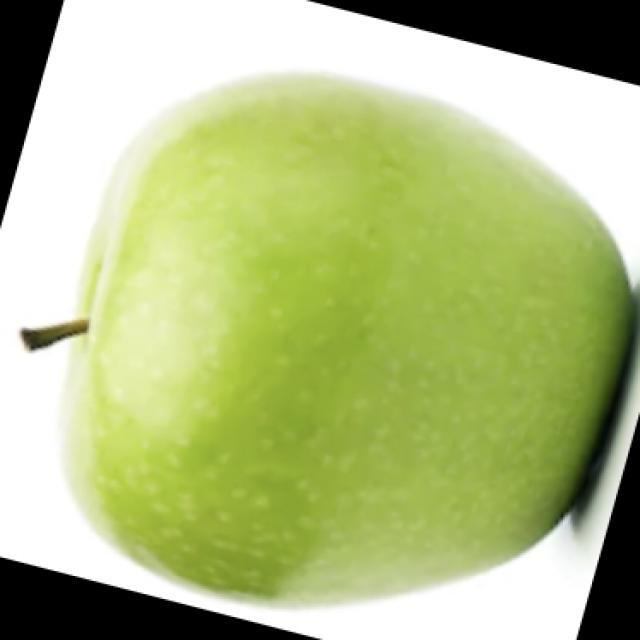Fresh Apple: (93, 91, 640, 586)
